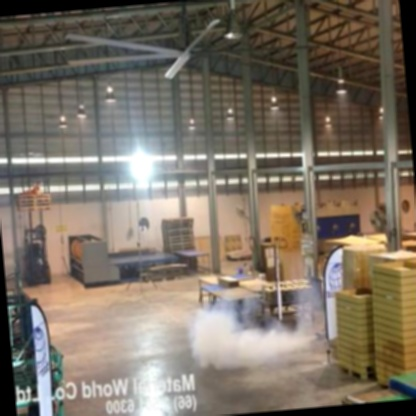smoke: (180, 261, 333, 376)
